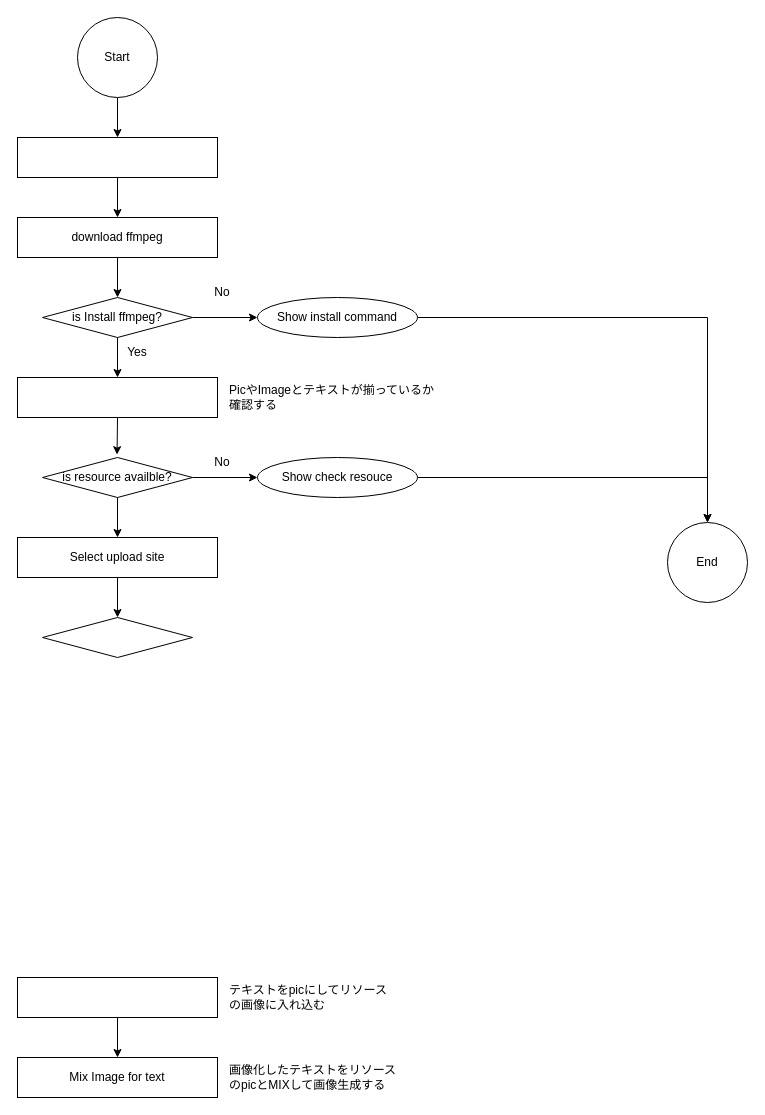
The diagram is 765 pixels wide and 1115 high, and some of its shapes have lost their labels. Each missing label, with the centre of its shape:
"Check Resorce" goes at [117,397].
"do command" goes at [117,157].
"text to image" goes at [117,997].
"X or Youtube?" goes at [117,637].
